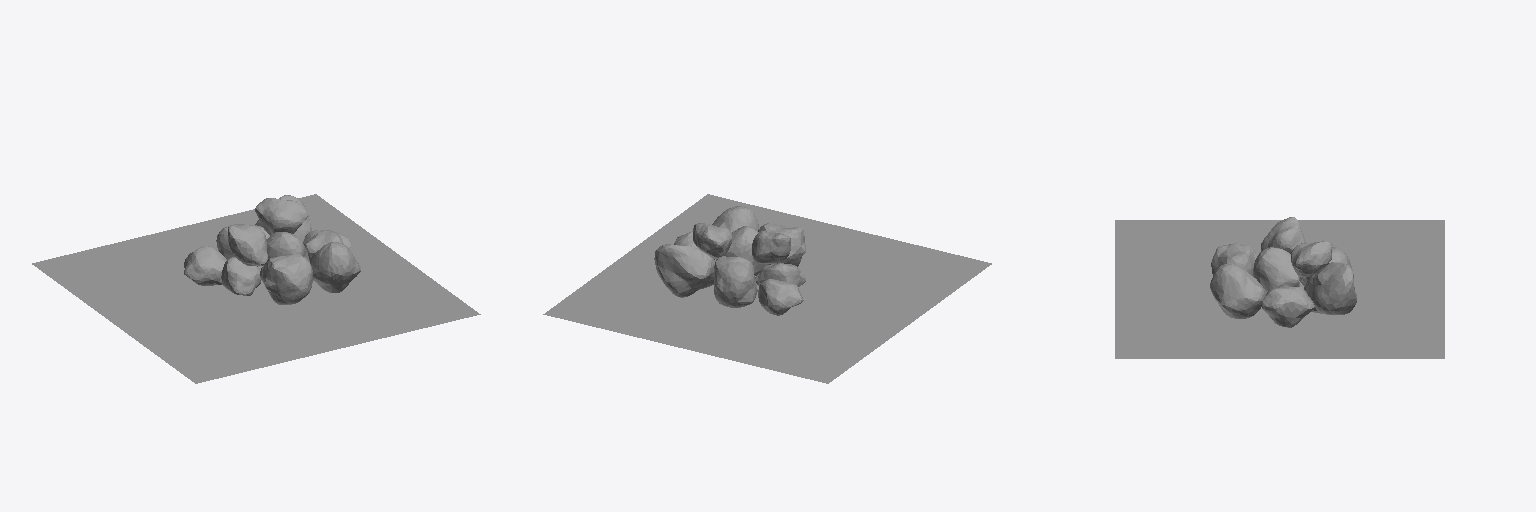
Rendered from rocks.obj.
3 renders of one model, left to right at view 1: azimuth 30°, elevation 25°; view 2: azimuth 150°, elevation 25°; view 3: azimuth 270°, elevation 25°, orthographic.
Parts seen in each view (by area): view 1: Plane, Icosphere.001_Icosphere.012, Icosphere.007_Icosphere.017, Icosphere.002_Icosphere.013, Icosphere.004_Icosphere.014, Icosphere.005_Icosphere.015, Icosphere.003, Icosphere.006_Icosphere.016, Icosphere.009_Icosphere.019; view 2: Plane, Icosphere.000_Icosphere.011, Icosphere.008_Icosphere.018, Icosphere.005_Icosphere.015, Icosphere.004_Icosphere.014, Icosphere.002_Icosphere.013, Icosphere.006_Icosphere.016, Icosphere.001_Icosphere.012, Icosphere.003, Icosphere.007_Icosphere.017; view 3: Plane, Icosphere.007_Icosphere.017, Icosphere.000_Icosphere.011, Icosphere.009_Icosphere.019, Icosphere.006_Icosphere.016, Icosphere.002_Icosphere.013, Icosphere.004_Icosphere.014, Icosphere.001_Icosphere.012.
Part boxes in pixels (x1,y1,x2,y2): Plane: (32,194,480,383); Icosphere.001_Icosphere.012: (260,254,312,304); Icosphere.007_Icosphere.017: (310,242,360,292); Icosphere.002_Icosphere.013: (255,198,307,235); Icosphere.004_Icosphere.014: (228,225,267,265); Icosphere.005_Icosphere.015: (184,246,226,285); Icosphere.003: (221,257,261,295); Icosphere.006_Icosphere.016: (267,232,308,260); Icosphere.009_Icosphere.019: (303,230,350,261); Plane: (543,194,991,383); Icosphere.000_Icosphere.011: (654,244,715,297); Icosphere.008_Icosphere.018: (714,256,757,307); Icosphere.005_Icosphere.015: (758,279,803,315); Icosphere.004_Icosphere.014: (752,231,790,263); Icosphere.002_Icosphere.013: (693,223,731,258); Icosphere.006_Icosphere.016: (716,226,766,275); Icosphere.001_Icosphere.012: (758,223,805,266); Icosphere.003: (755,263,805,286); Icosphere.007_Icosphere.017: (712,206,758,232); Plane: (1115,220,1444,358); Icosphere.007_Icosphere.017: (1210,264,1265,318); Icosphere.000_Icosphere.011: (1304,262,1356,314); Icosphere.009_Icosphere.019: (1262,284,1314,327); Icosphere.006_Icosphere.016: (1253,247,1299,293); Icosphere.002_Icosphere.013: (1291,241,1331,277); Icosphere.004_Icosphere.014: (1261,217,1305,254); Icosphere.001_Icosphere.012: (1211,243,1257,275).
Size of the model in its own units: 20.82 by 4.62 by 20.82.